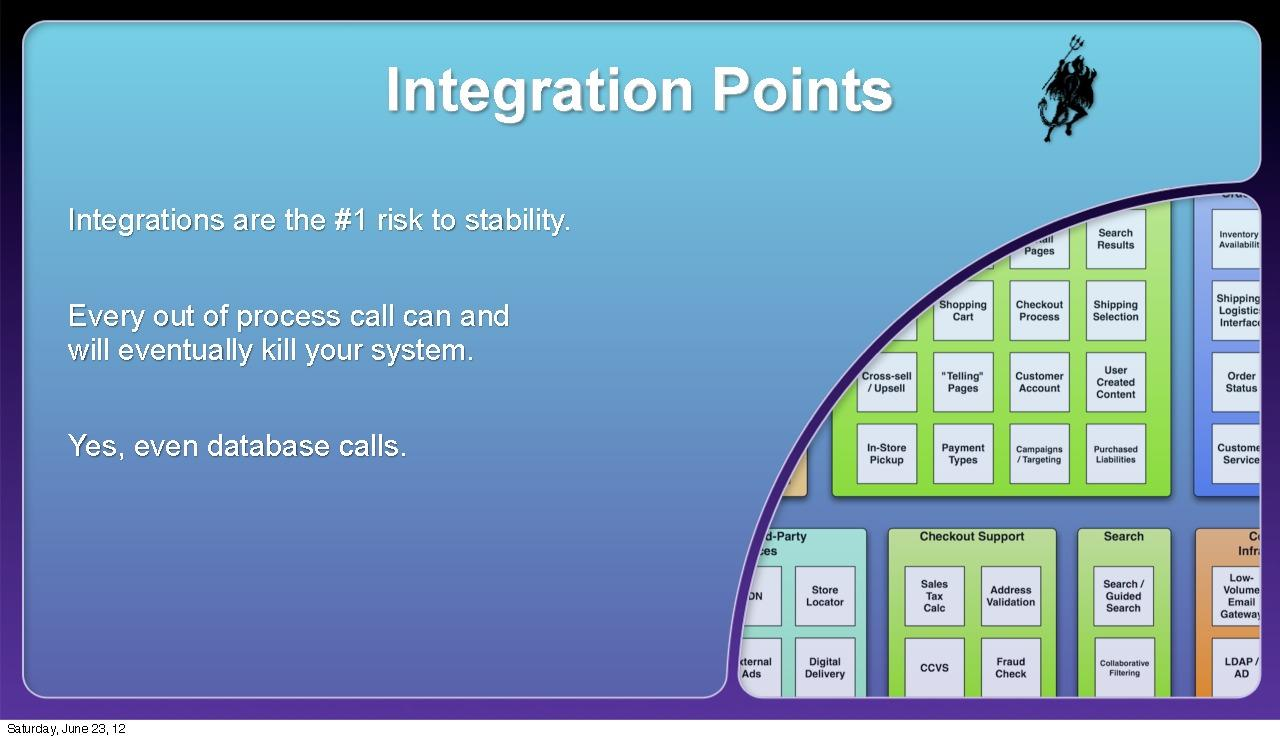paragraph: (48, 169, 653, 535)
title: (371, 39, 922, 166)
